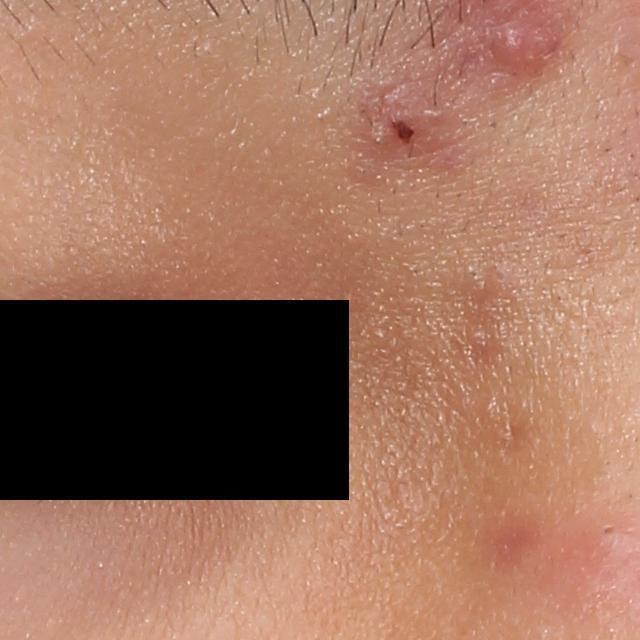papule: (360, 83, 434, 150), (486, 12, 539, 68)
